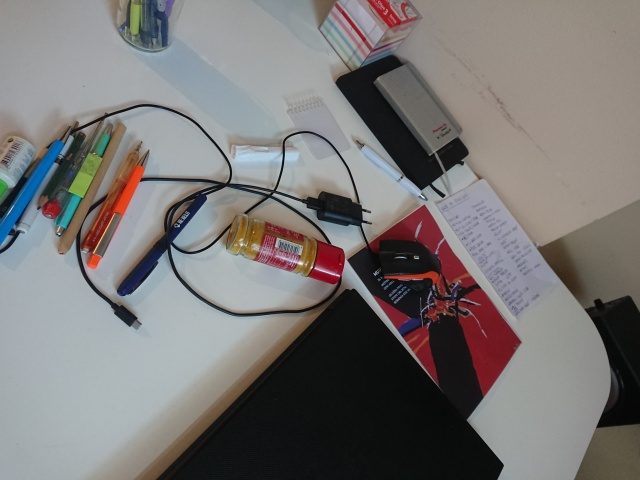Kotanyi Curry Spices Mix 70g: (224, 212, 346, 286)
